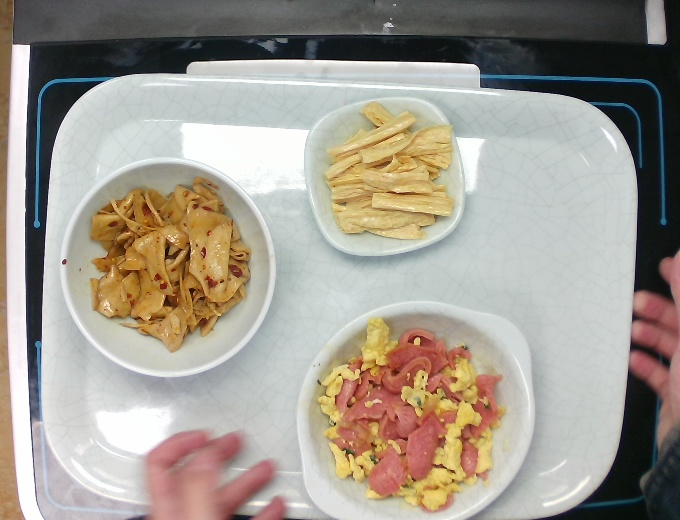JYsf-Fan_Wan: (58, 152, 278, 384)
JYsf-Shuang_Er_Wan: (289, 297, 543, 520)
JYsf-Si_Fang_Die: (303, 93, 469, 261)
